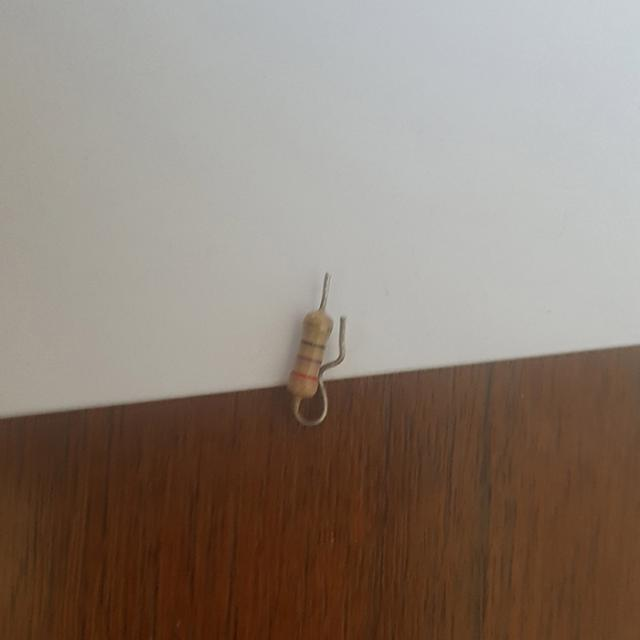black: (302, 338, 325, 347)
gold: (303, 319, 330, 335)
red: (293, 370, 317, 379)
resistor: (281, 304, 341, 398)
violet: (297, 354, 321, 362)
